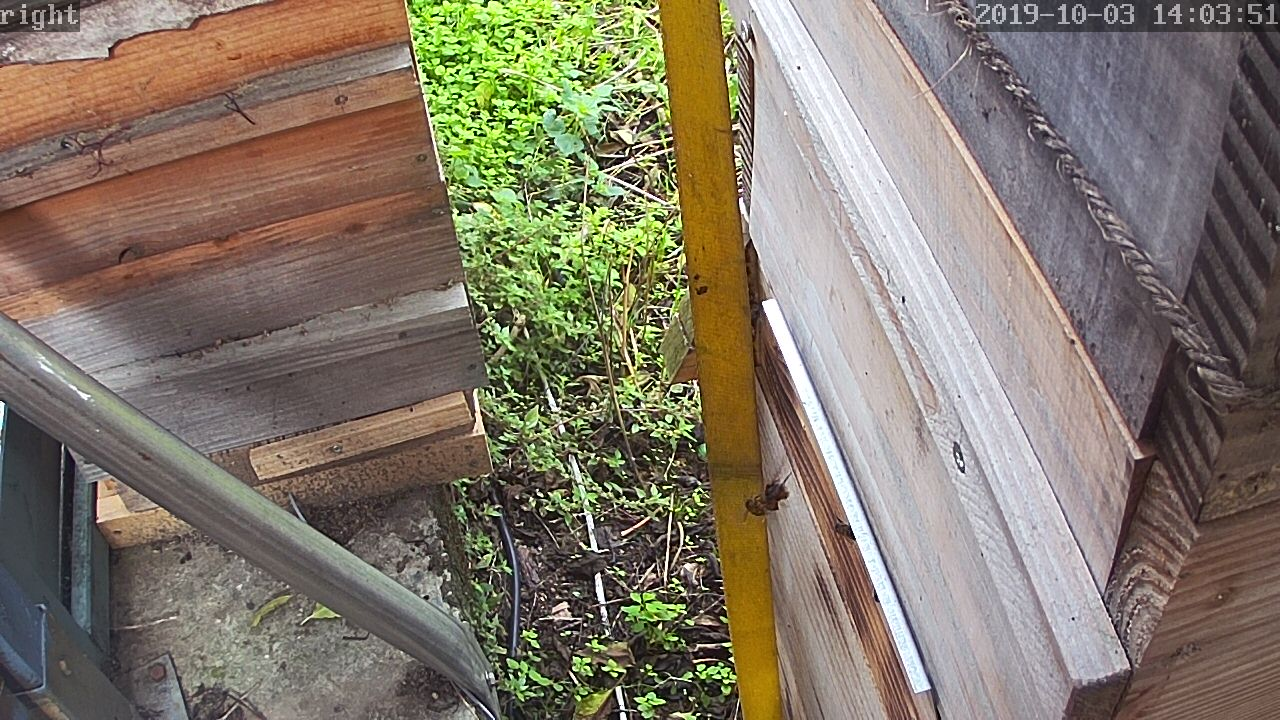bee: (826, 494, 859, 538)
hornet: (735, 472, 790, 525)
